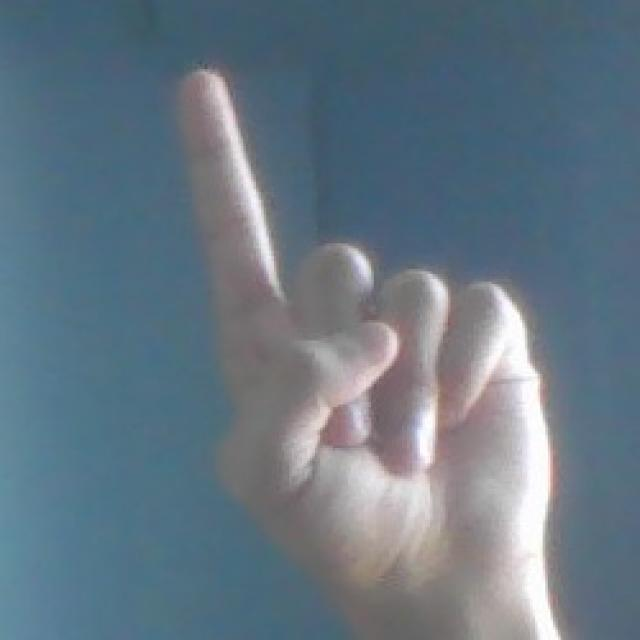Numeric-1: (170, 69, 550, 603)
